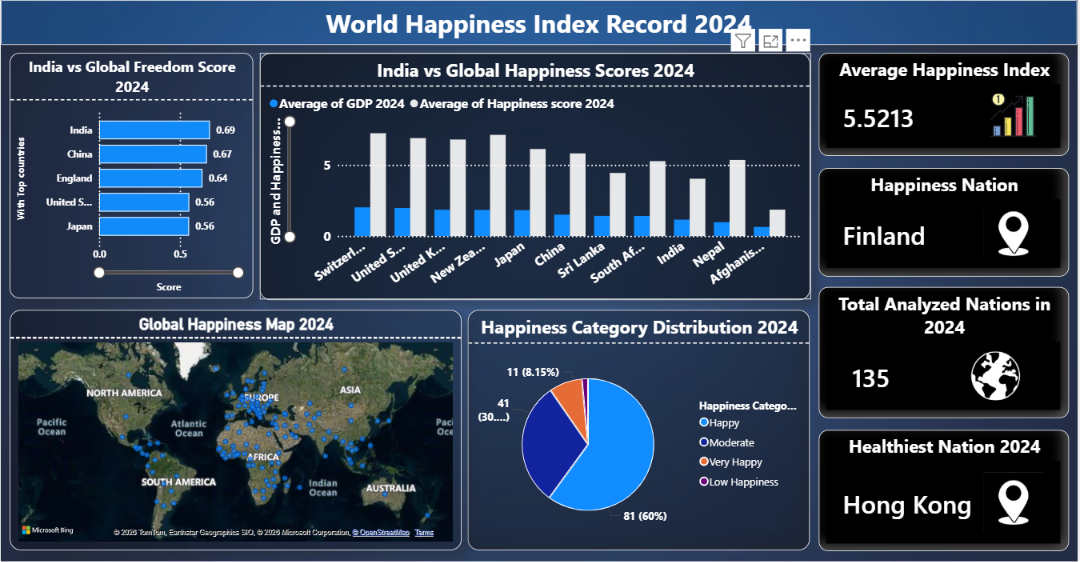

The dashboard page shown, as its layout file describes it:
{"tool":"powerbi","page":{"name":"2024 Report","canvas":[1380,720],"ordinal":0},"visuals":[{"type":"textbox","box":[0,0,1380.3,57.7],"z":0},{"type":"cardVisual","title":"Average Happiness Index","fields":{"Data":["2024.Average Happiness"]},"box":[1048.4,67.6,322.1,131.5],"z":1000},{"type":"cardVisual","title":"Total Analyzed Nations in 2024","fields":{"Data":["2024.Total Countries"]},"box":[1048.8,368.8,321.2,170],"z":2000},{"type":"cardVisual","title":"Happiness Nation","fields":{"Data":["2024.Happiest Country"]},"box":[1048.8,210,321.2,145],"z":3000},{"type":"pieChart","title":"Happiness Category Distribution 2024","fields":{"Y":["CountNonNull(2024.Country )"],"Category":["2024.Happiness Category"]},"box":[598.8,397.5,440,310],"z":4000},{"type":"map","title":"Global Happiness Map 2024","fields":{"Category":["2024.Country "]},"box":[11.2,397.5,578.8,310],"z":5000},{"type":"clusteredColumnChart","title":"India vs Global Happiness Scores 2024","fields":{"Category":["2024.Country "],"Y":["Avg(2024.GDP)","Avg(2024.Happiness score)"]},"box":[332.2,67.7,705.8,317.2],"z":6000},{"type":"barChart","title":"India vs Global Freedom Score 2024","fields":{"Category":["2024.Country "],"Y":["Avg(2024.Freedom)"]},"box":[11.3,67.7,312.2,314.7],"z":7000},{"type":"cardVisual","title":"Healthiest Nation 2024","fields":{"Data":["2024.Healthiest Nation"]},"box":[1048.8,551.2,321.2,156.2],"z":8000}]}

Visuals, with their boxes in screenshot pixels (x1, y1, x2, y2), scaled from the page's 1380x720 canvas onto the 1081x562 screenshot:
textbox: <bbox>0, 0, 1080, 45</bbox>
"Average Happiness Index" cardVisual: <bbox>821, 53, 1074, 155</bbox>
"Total Analyzed Nations in 2024" cardVisual: <bbox>822, 288, 1073, 421</bbox>
"Happiness Nation" cardVisual: <bbox>822, 164, 1073, 277</bbox>
"Happiness Category Distribution 2024" pieChart: <bbox>469, 310, 814, 552</bbox>
"Global Happiness Map 2024" map: <bbox>9, 310, 462, 552</bbox>
"India vs Global Happiness Scores 2024" clusteredColumnChart: <bbox>260, 53, 813, 300</bbox>
"India vs Global Freedom Score 2024" barChart: <bbox>9, 53, 253, 298</bbox>
"Healthiest Nation 2024" cardVisual: <bbox>822, 430, 1073, 552</bbox>
